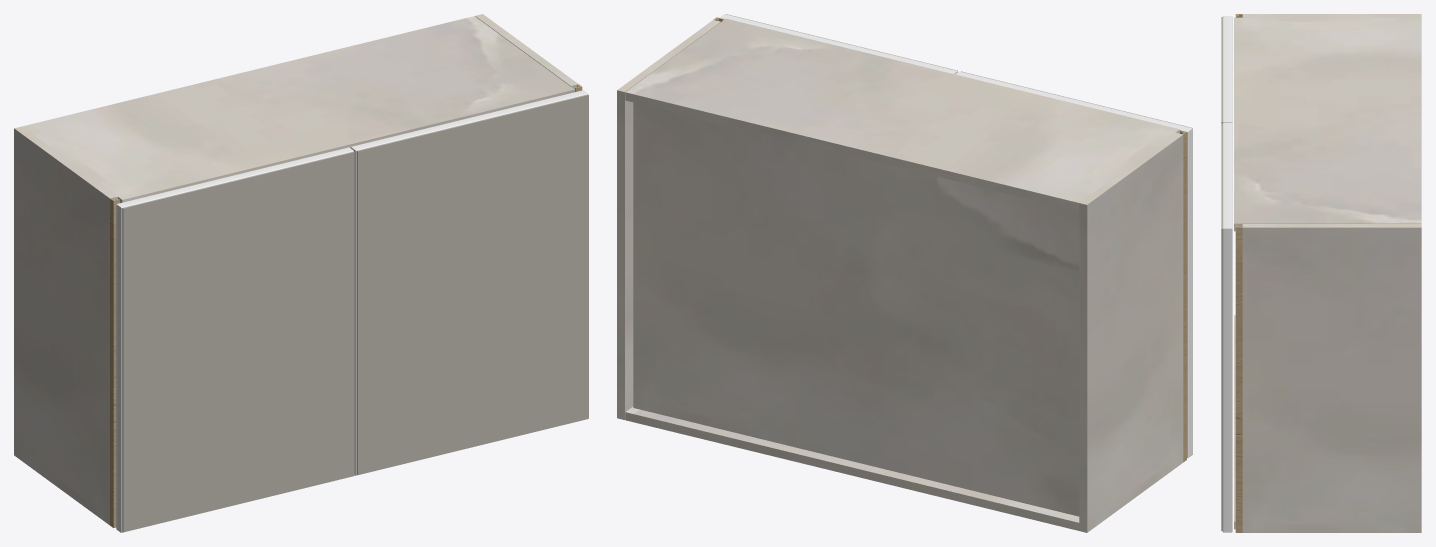
The model's file is WALL LOFT BLIND CABINET 1 SHELF (H600xW900xD336) S450_WBC1S1HS_LH.glb.
3 views of the same model, side by side, from view 1: azimuth 30°, elevation 25°; view 2: azimuth 150°, elevation 25°; view 3: azimuth 270°, elevation 25° (orthographic). The views are drawn at different scales.
Size of what is drawn, in the model's own units: 0.9 by 0.6 by 0.3568.
Materials: 6 (3 with a texture image).
